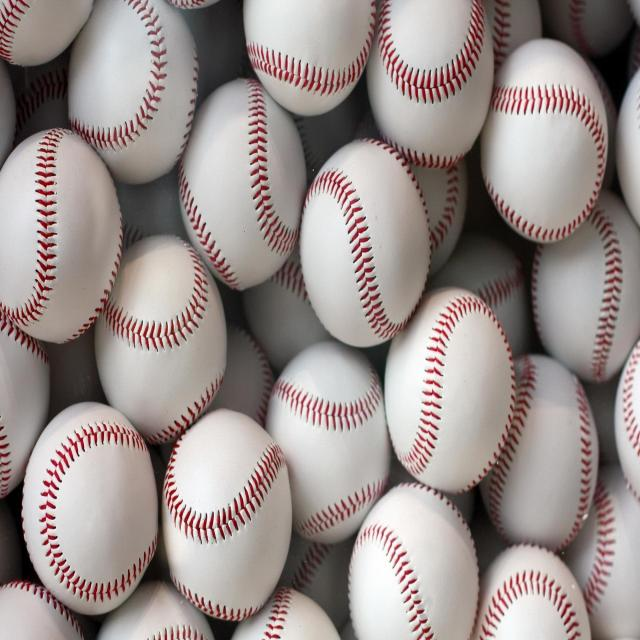baseball: (20, 399, 157, 608), (302, 139, 432, 344), (482, 31, 608, 240), (167, 406, 294, 612), (179, 73, 304, 281), (98, 236, 230, 429), (6, 124, 122, 340), (388, 288, 512, 490), (66, 1, 197, 188), (263, 348, 387, 532), (352, 482, 491, 636), (367, 5, 490, 163), (493, 352, 595, 542), (531, 231, 628, 379), (248, 21, 369, 113)
